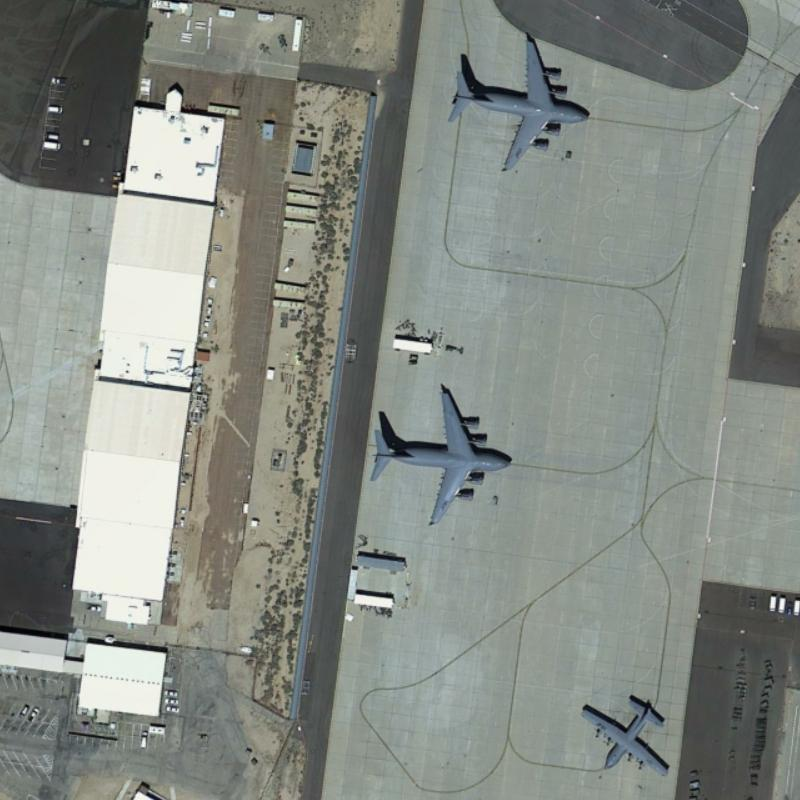A2: (573, 687, 674, 779)
A3: (365, 379, 520, 532), (442, 29, 593, 174)
